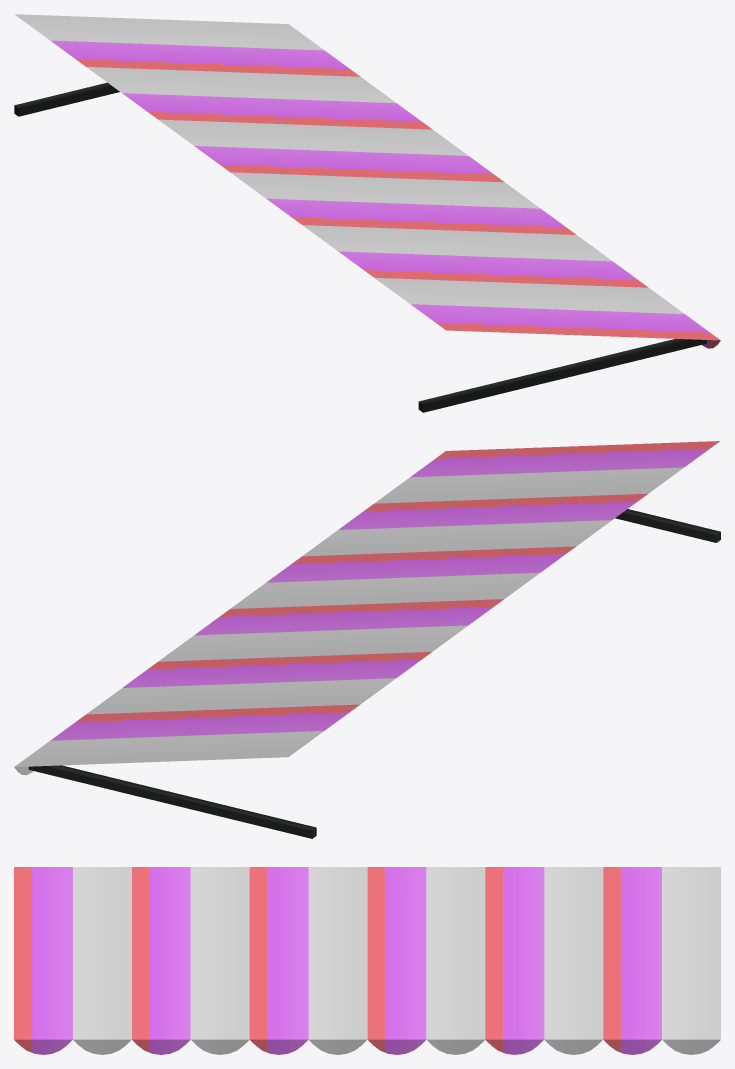
The model's file is SM_overhangPurple01.fbx.
The picture shows the model from 3 angles, top to bottom: view 1: azimuth 30°, elevation 25°; view 2: azimuth 150°, elevation 25°; view 3: azimuth 270°, elevation 25°; orthographic projection. The views are drawn at different scales.
Parts seen in each view (by area): view 1: SM_overhangPurple; view 2: SM_overhangPurple; view 3: SM_overhangPurple.
Boxes of the visible parts, left/top/right/bottom form: SM_overhangPurple: left=14, top=14, right=720, bottom=412; SM_overhangPurple: left=14, top=441, right=720, bottom=838; SM_overhangPurple: left=14, top=867, right=720, bottom=1054.
Size of the model in its own units: 165 by 52.79 by 432.
